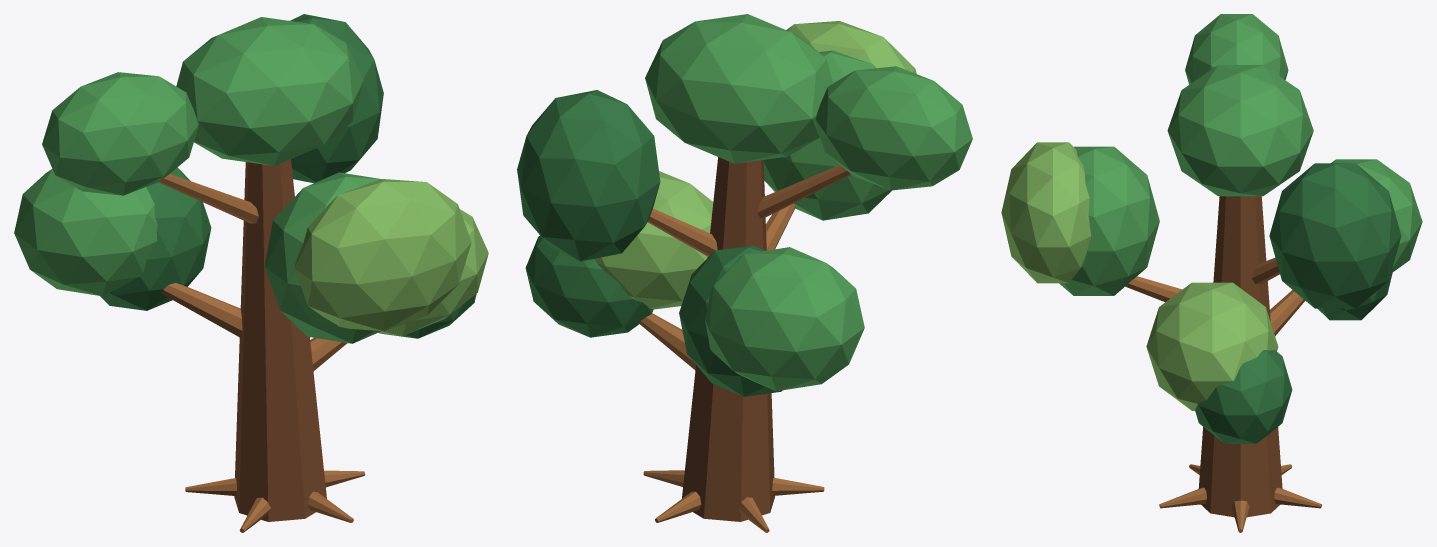
The model's file is tree_a.glb.
3 renders of one model, left to right at view 1: azimuth 30°, elevation 25°; view 2: azimuth 150°, elevation 25°; view 3: azimuth 270°, elevation 25°, orthographic. The views are drawn at different scales.
Visible parts, largest first — view 1: TREE_A; view 2: TREE_A; view 3: TREE_A.
Boxes of the visible parts, left/top/right/bottom form: TREE_A: left=14, top=14, right=488, bottom=532; TREE_A: left=517, top=14, right=972, bottom=532; TREE_A: left=1001, top=14, right=1422, bottom=532.
Size of the model in its own units: 4.86 by 5.26 by 4.72.
